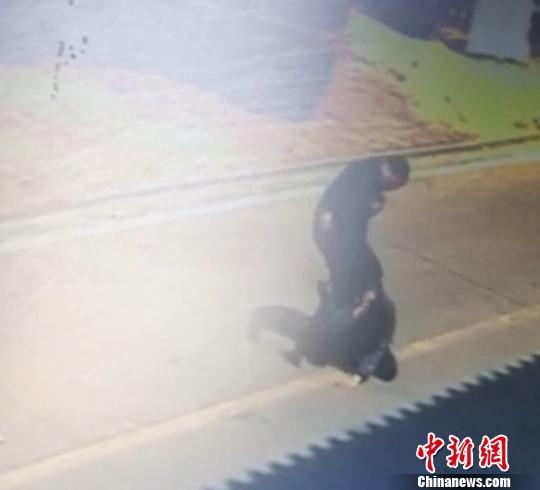falling: (260, 271, 409, 391)
